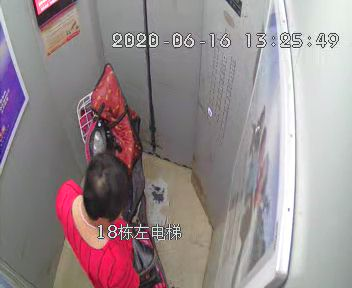Electric-bicycle: (76, 70, 165, 288)
